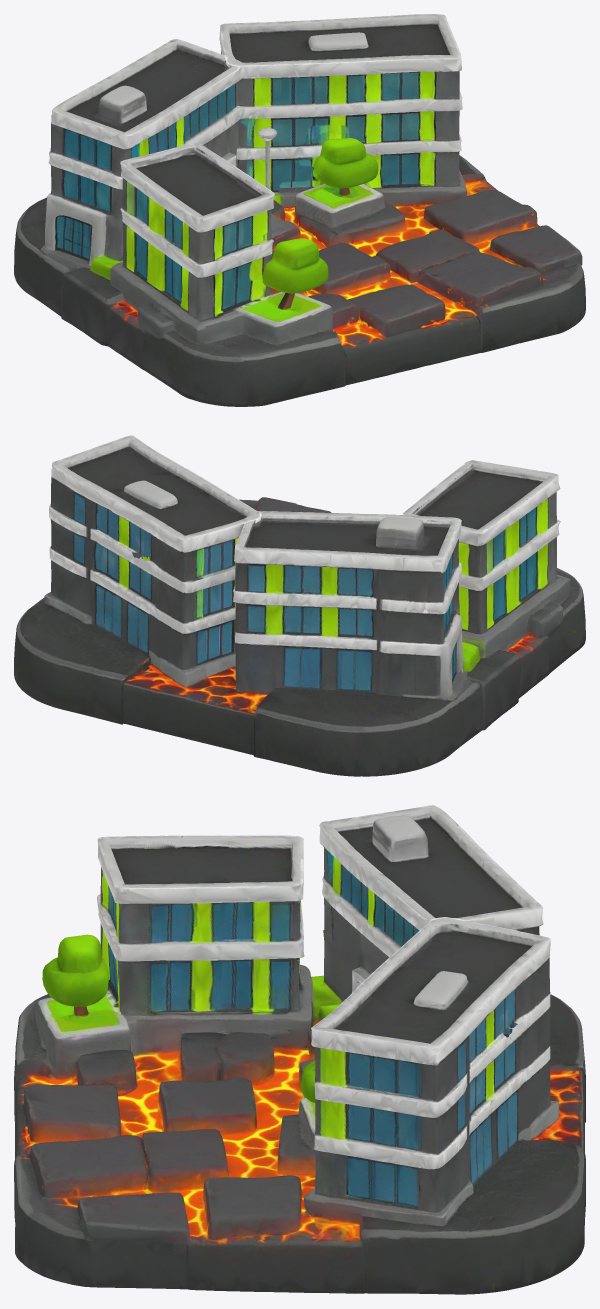
The model's file is project1-v2.glb.
3 renders of one model, top to bottom at view 1: azimuth 30°, elevation 25°; view 2: azimuth 150°, elevation 25°; view 3: azimuth 270°, elevation 25°, orthographic. The views are drawn at different scales.
Visible parts, largest first — view 1: Mesh_0; view 2: Mesh_0; view 3: Mesh_0.
Boxes of the visible parts, bbox=[...] form: Mesh_0: bbox=[14, 14, 585, 406]; Mesh_0: bbox=[14, 435, 585, 776]; Mesh_0: bbox=[14, 805, 585, 1294].
Size of the model in its own units: 22.22 by 10 by 20.48.
Materials: 1 (1 with a texture image).
